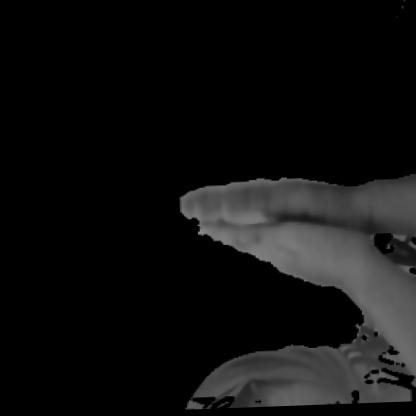clap: (163, 154, 415, 307)
